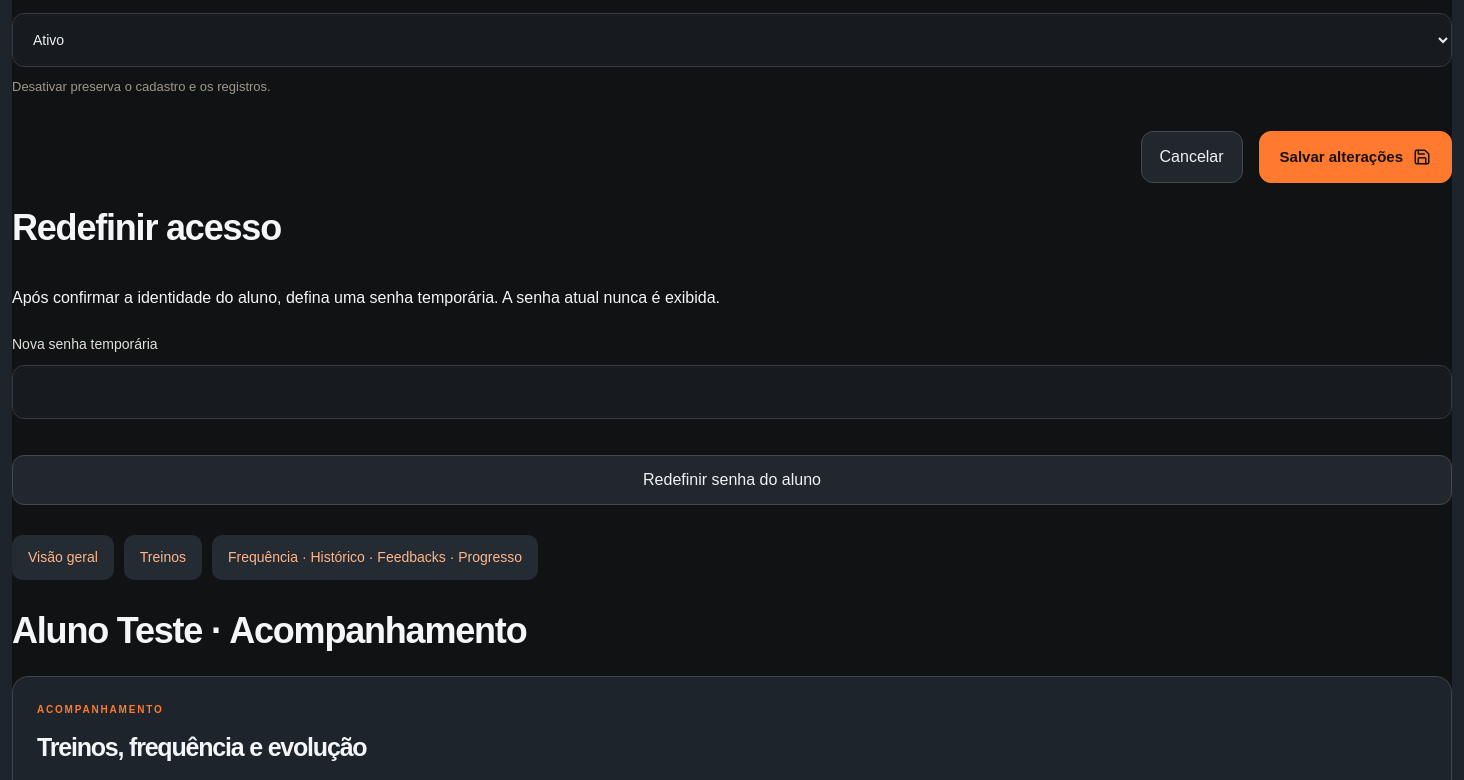
student management UI with mocked service › resets a student password without exposing any existing password
(page scrolled)
Type "temporary-password" into the password field labelled "Nova senha temporária" at (732, 392), box [12,365,1452,419]
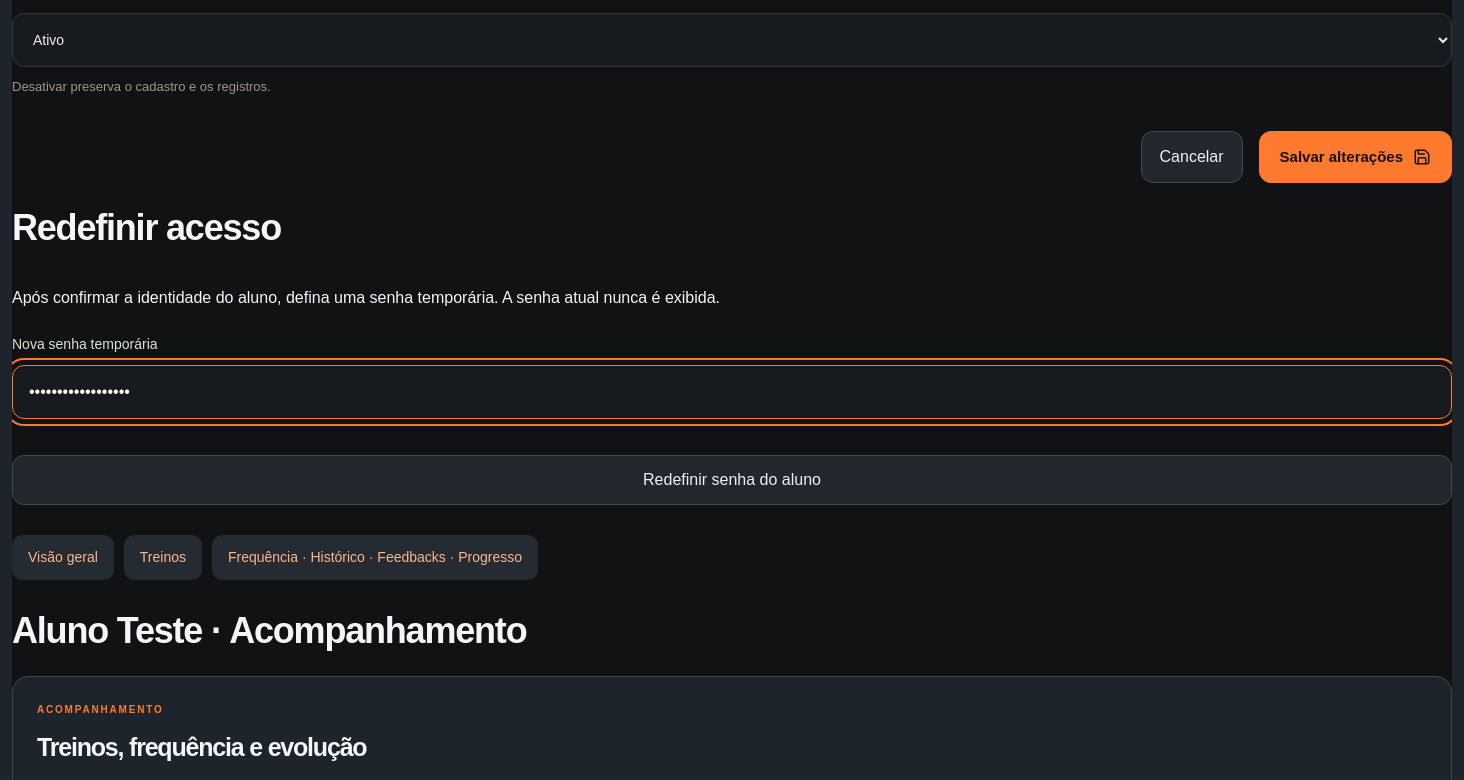
Click the button "Redefinir senha do aluno" at (732, 480), box [12,455,1452,505]
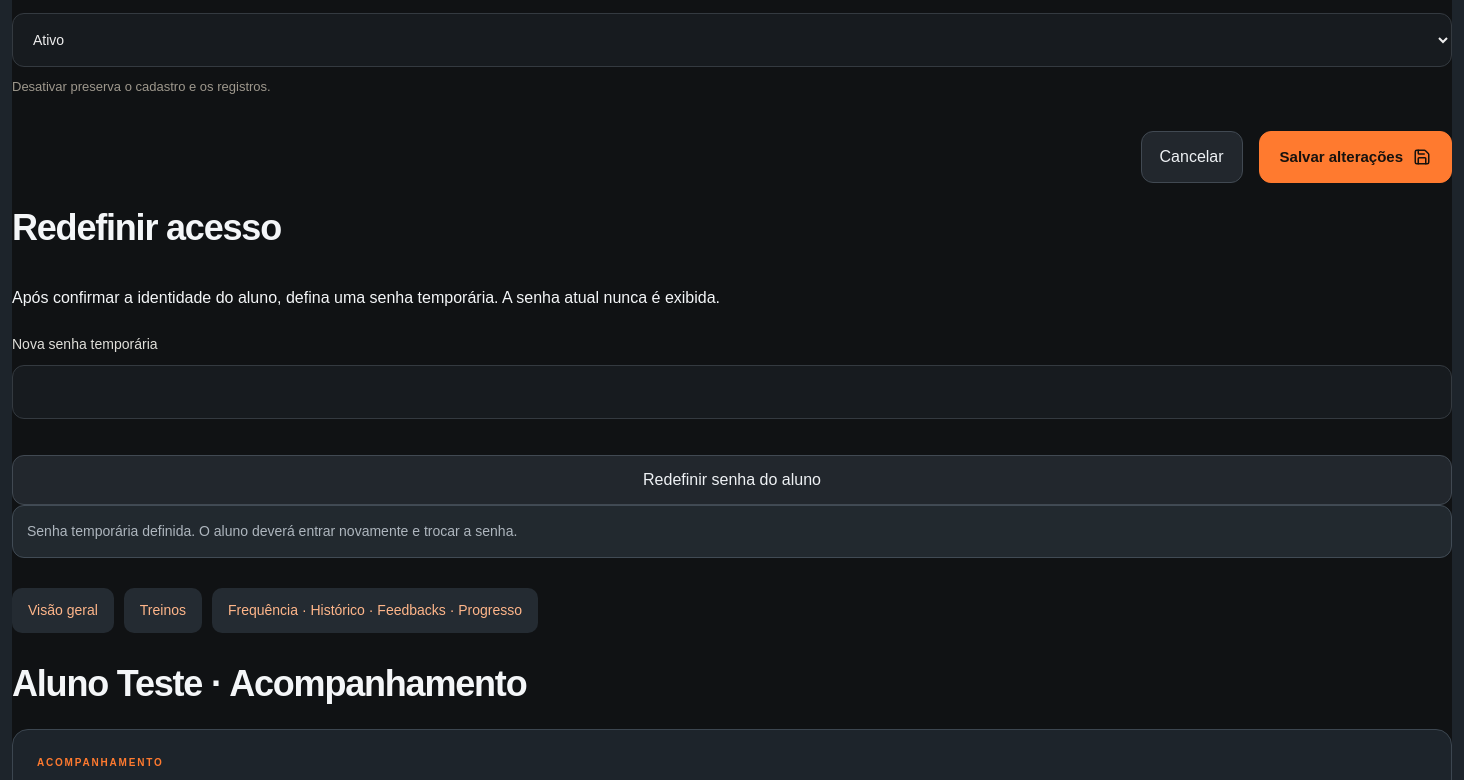
Result: the message shows "Senha temporária definida" at [27,523,517,539]
Result: the password field labelled "Nova senha temporária" is empty at [12,365,1452,419]
